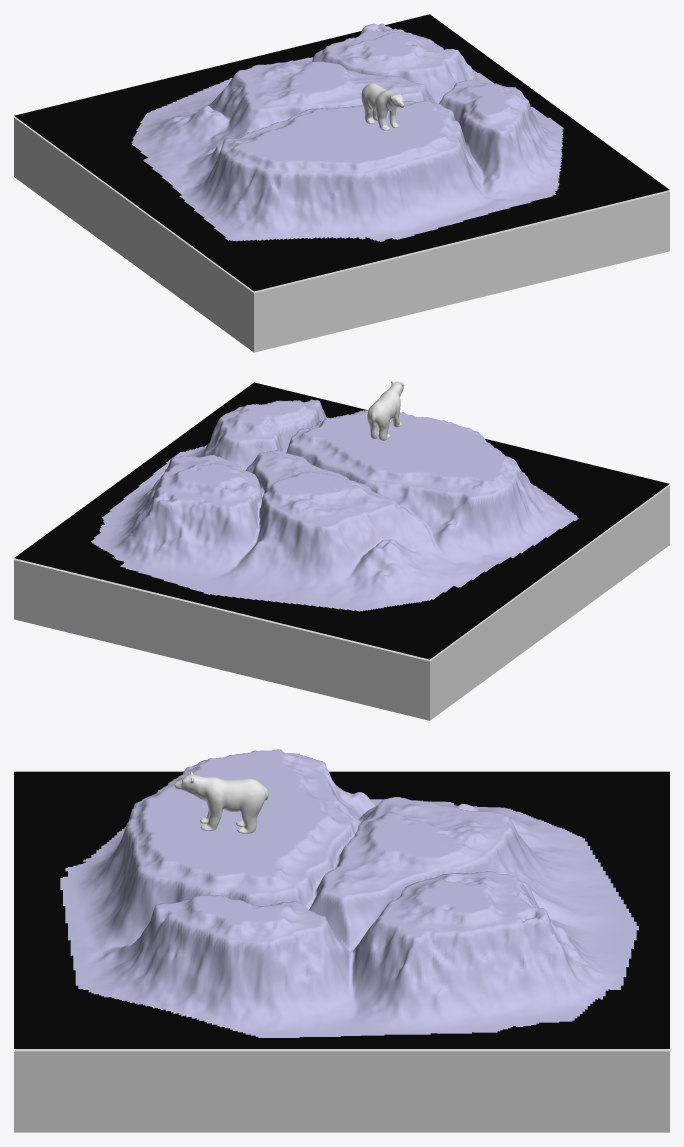
File: glacier.fbx
3 views of the same model, one above another, from view 1: azimuth 30°, elevation 25°; view 2: azimuth 150°, elevation 25°; view 3: azimuth 270°, elevation 25° (orthographic). The views are drawn at different scales.
Visible parts, largest first — view 1: Landscape.003, Cube, ocean, 11503_PolarBear_V2_FINAL; view 2: Landscape.003, Cube, ocean, 11503_PolarBear_V2_FINAL; view 3: Landscape.003, ocean, Cube, 11503_PolarBear_V2_FINAL.
Part boxes in pixels (left/top/right/bottom): Landscape.003: left=131, top=23, right=563, bottom=241; Cube: left=14, top=117, right=669, bottom=352; ocean: left=14, top=14, right=669, bottom=291; 11503_PolarBear_V2_FINAL: left=361, top=83, right=404, bottom=130; Landscape.003: left=91, top=399, right=578, bottom=611; Cube: left=14, top=485, right=669, bottom=720; ocean: left=14, top=382, right=669, bottom=659; 11503_PolarBear_V2_FINAL: left=367, top=381, right=404, bottom=440; Landscape.003: left=60, top=749, right=638, bottom=1037; ocean: left=14, top=771, right=669, bottom=1048; Cube: left=14, top=1049, right=669, bottom=1132; 11503_PolarBear_V2_FINAL: left=174, top=771, right=268, bottom=833.
Bounding box in the file's own units: 200 × 73.51 × 200.
